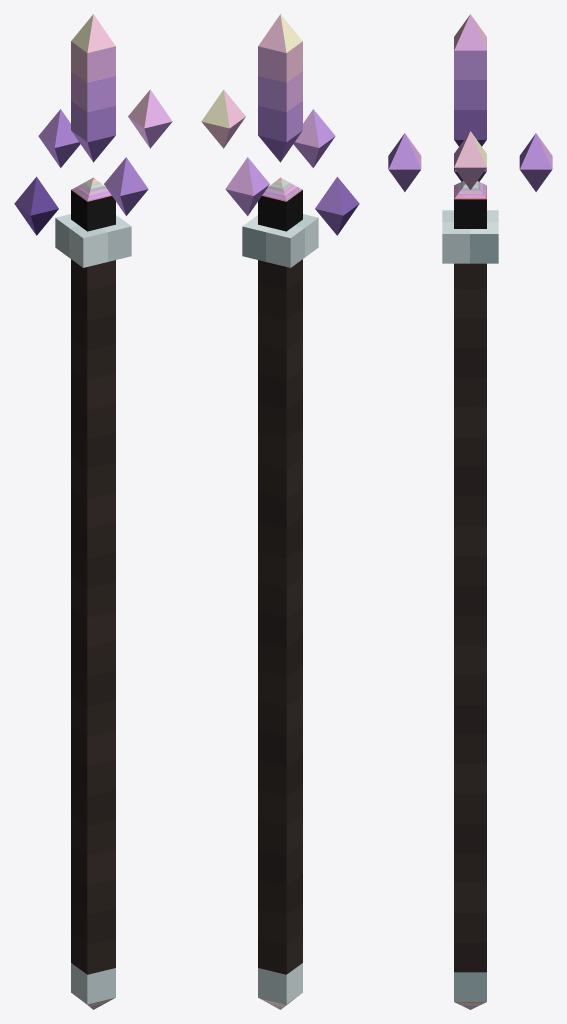
File: staff_amethyst.obj
3 views of the same model, side by side, from view 1: azimuth 30°, elevation 25°; view 2: azimuth 150°, elevation 25°; view 3: azimuth 270°, elevation 25° (orthographic).
Visible parts, largest first — view 1: STAFF_VAR10_Cube.033; view 2: STAFF_VAR10_Cube.033; view 3: STAFF_VAR10_Cube.033.
Part boxes in pixels (x1,y1,x2,y2): STAFF_VAR10_Cube.033: (14,14,172,1009); STAFF_VAR10_Cube.033: (201,14,359,1009); STAFF_VAR10_Cube.033: (388,14,552,1009).
Bounding box in the file's own units: 0.3125 × 2.09 × 0.3125.
